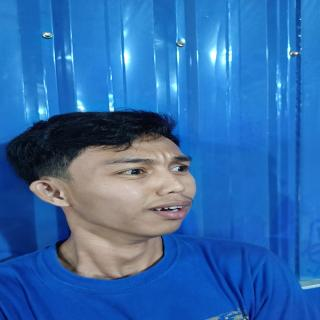Takut: (68, 131, 208, 238)
